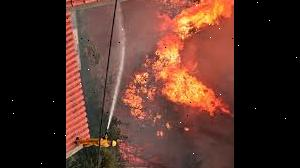fire: (120, 0, 232, 129), (118, 134, 191, 168)
